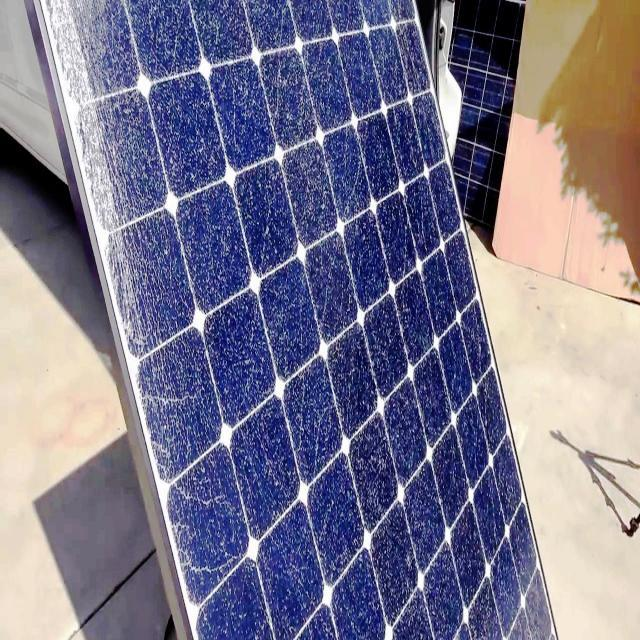faulty: (36, 2, 562, 640)
